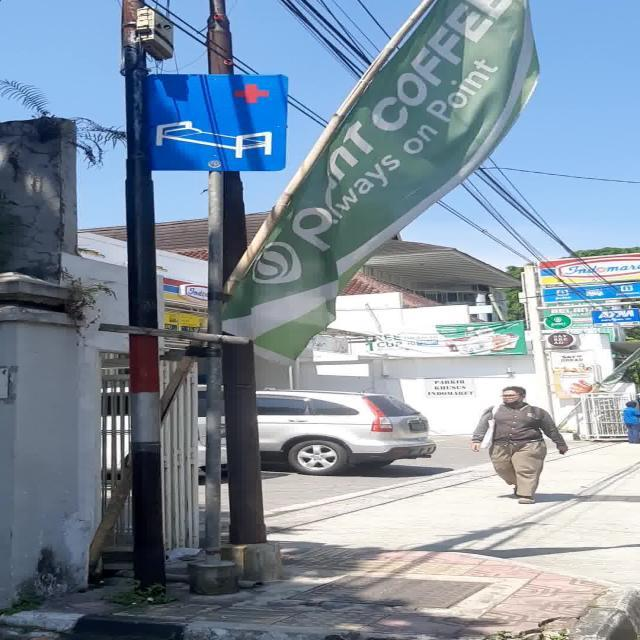Rumah Sakit: (150, 74, 288, 172)
